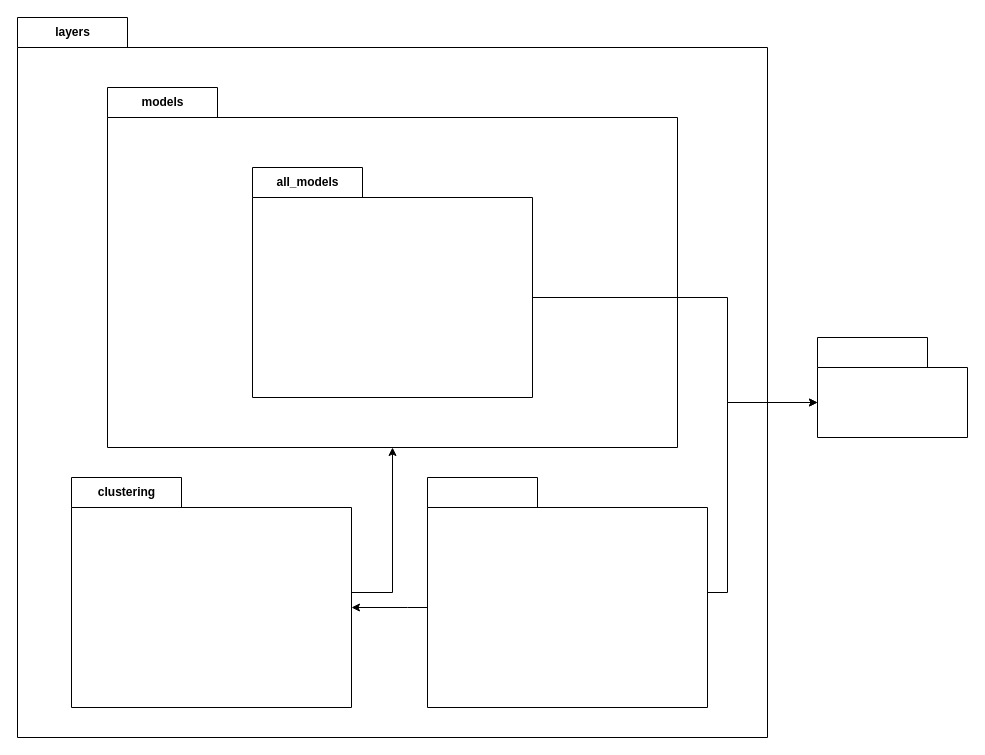
Image size: 985x755. Some labels were removed from this diagram. The shapes that lost their labels are listed below. From the top down, each one's centre as x and y in pixels, then its label:
At point 892,387: "model_train".
At point 567,592: "mab".
